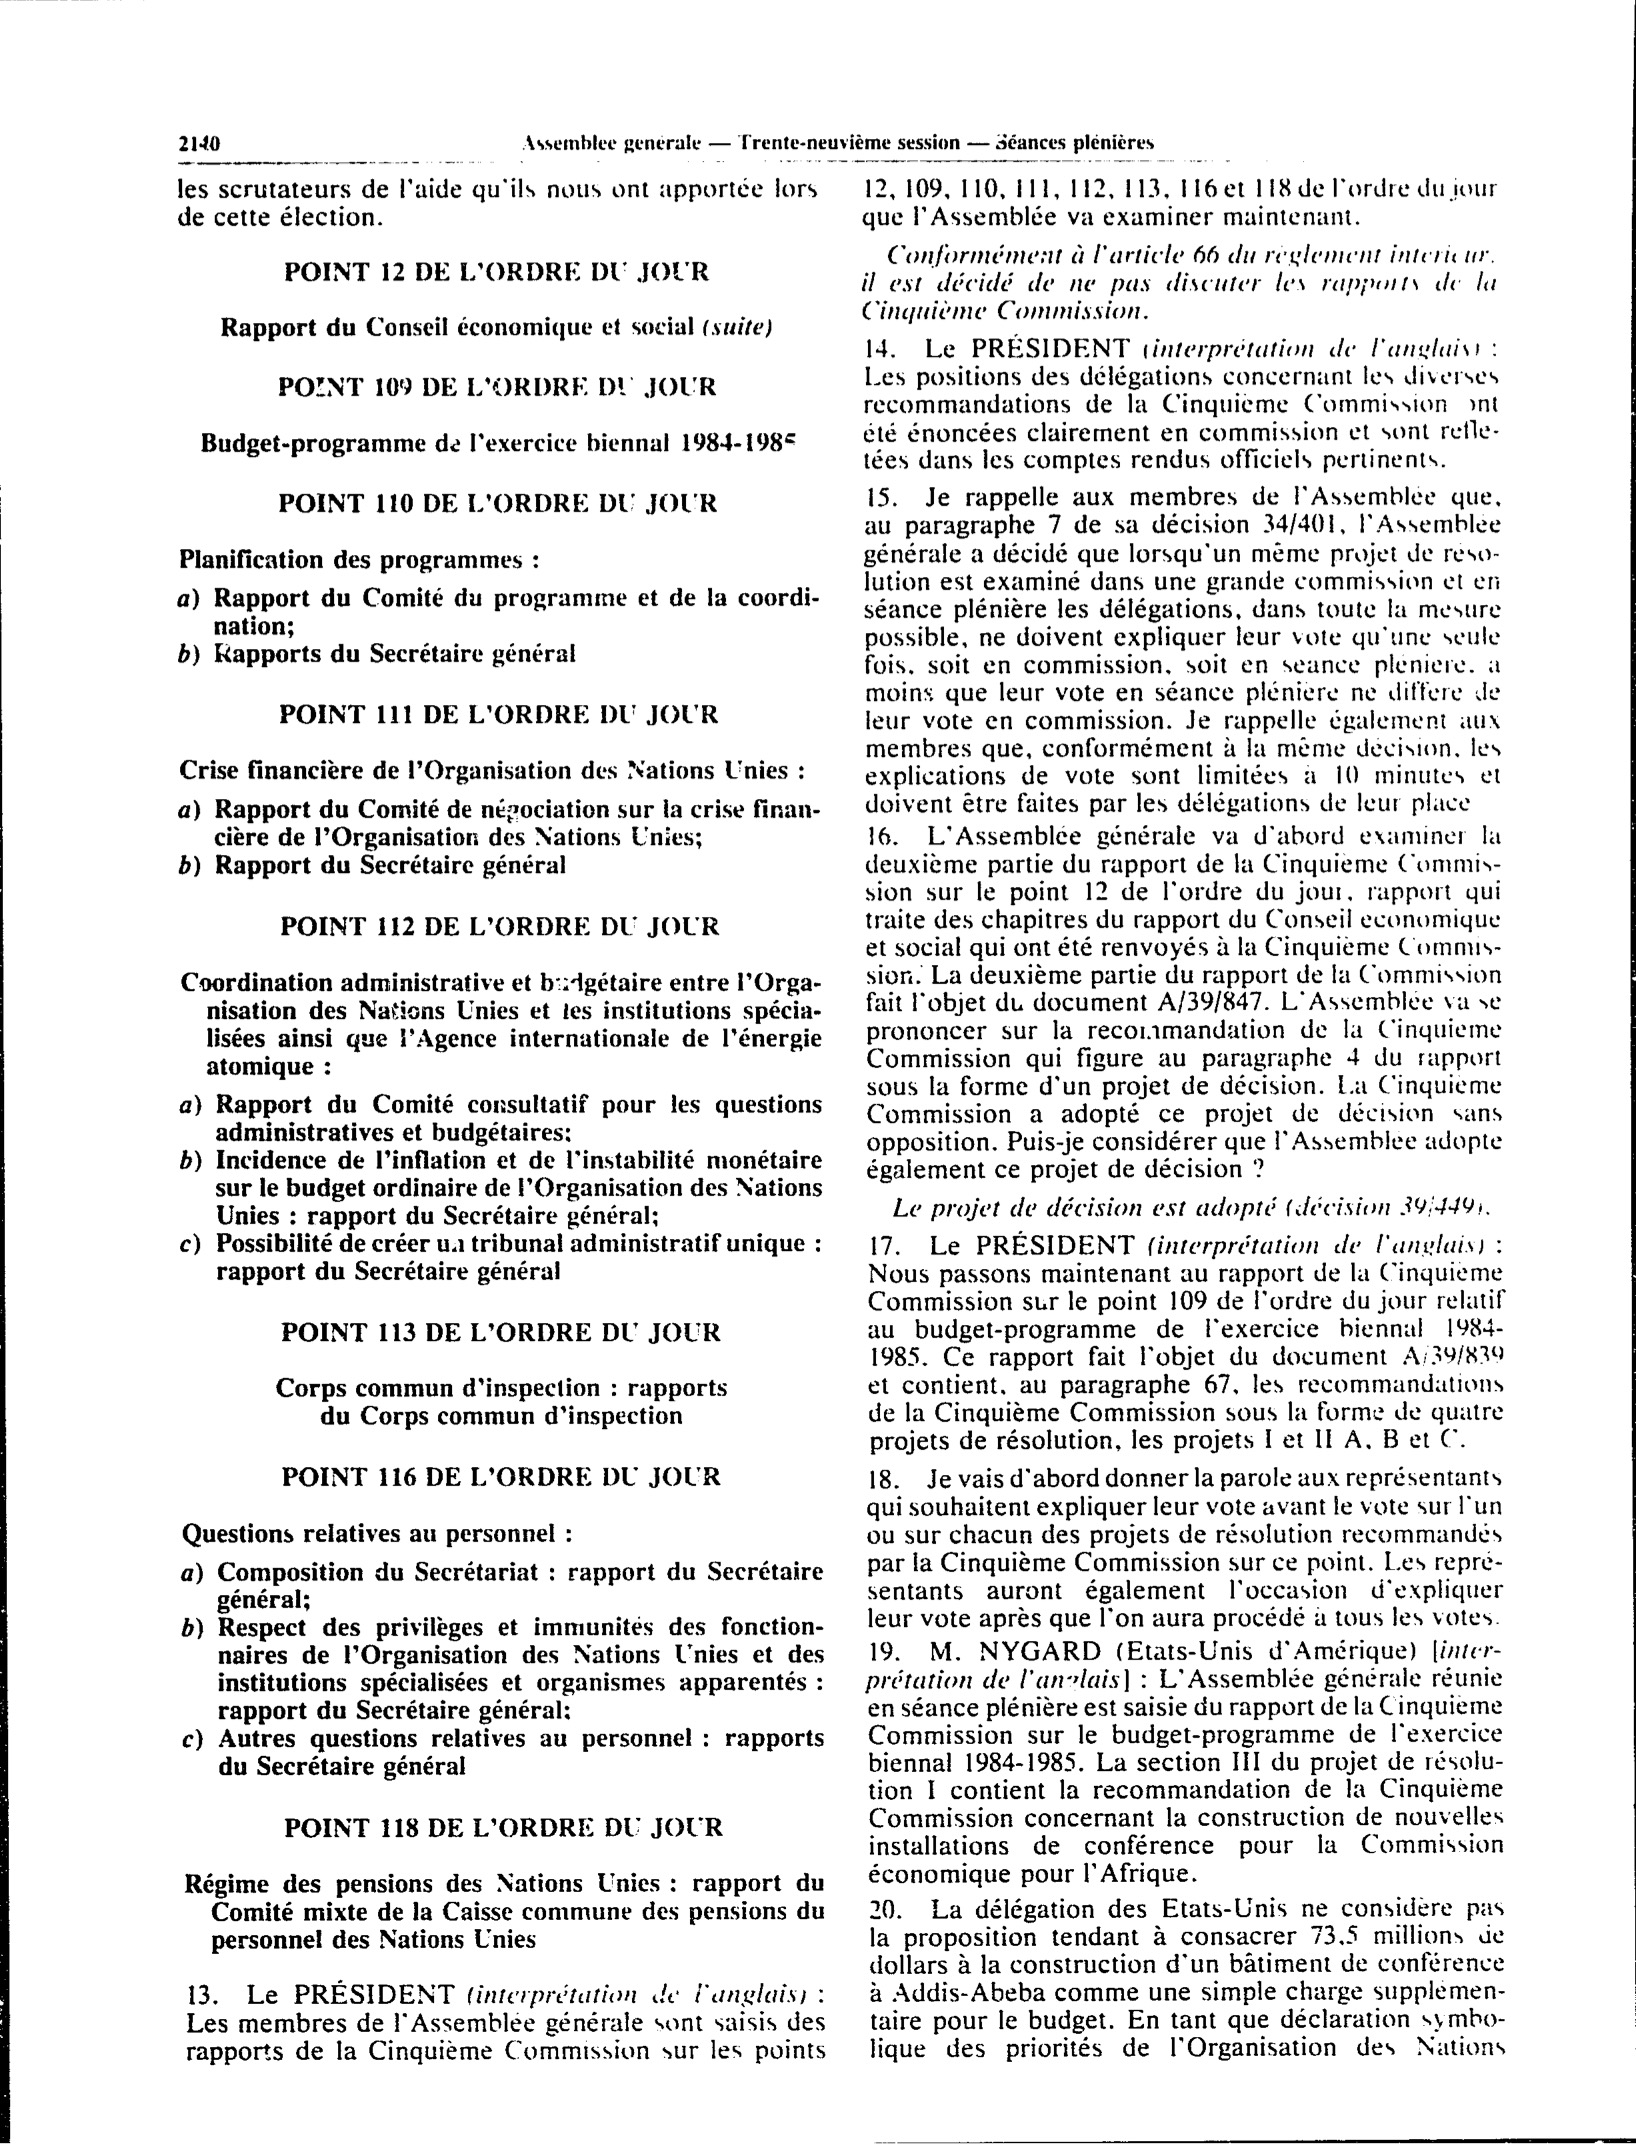MainZone-Continued: (167, 171, 822, 234)
MainZone-Head: (260, 1363, 737, 1436), (272, 1804, 740, 1850), (188, 427, 808, 460), (272, 1455, 731, 1497), (270, 1312, 734, 1352), (205, 312, 786, 343), (270, 905, 729, 944), (264, 484, 732, 521), (268, 254, 719, 290), (261, 370, 730, 403), (267, 698, 731, 730)
MainZone-ListItem: (855, 475, 1512, 1182), (862, 1633, 1512, 1886), (863, 1227, 1513, 1455), (864, 1892, 1516, 2071), (863, 1461, 1511, 1631), (858, 329, 1505, 472), (170, 1614, 830, 1724), (178, 1974, 834, 2072), (174, 1864, 833, 1956), (168, 1145, 828, 1229), (172, 1723, 832, 1786), (168, 1229, 826, 1291), (852, 172, 1504, 234), (170, 1086, 827, 1146), (174, 1555, 830, 1615), (169, 792, 823, 852), (170, 581, 820, 640), (170, 849, 721, 885), (170, 639, 600, 673)
MainZone-P: (172, 966, 826, 1083), (855, 238, 1503, 328), (168, 751, 824, 789), (878, 1189, 1494, 1223), (172, 1515, 587, 1552), (168, 544, 547, 578)
NumberingZone: (170, 126, 230, 161)
RunningTitleZone: (513, 129, 1165, 157)
